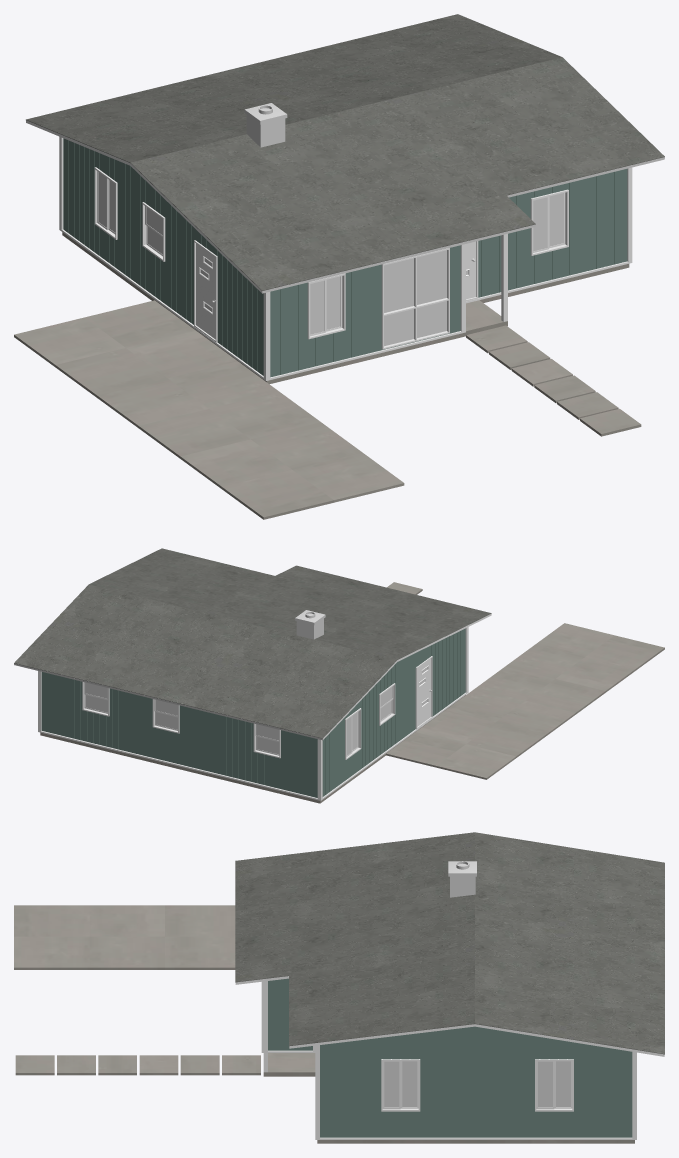
Rendered from casa1b.glb.
3 renders of one model, top to bottom at view 1: azimuth 30°, elevation 25°; view 2: azimuth 150°, elevation 25°; view 3: azimuth 270°, elevation 25°, orthographic. The views are drawn at different scales.
Parts seen in each view (by area): view 1: mf-371-roof_Asphalt020_0, mf-371-foundation_ConcreteSubstance004_0, mf-371-plywood_panels_plywood_teal_0, mf-371-walls_Wood058_0, mf-371-windowDouble.001_Glass_0, mf-371-doorFront_C.001_Accent_White_0, mf-371-chimney_Metal_White_0; view 2: mf-371-roof_Asphalt020_0, mf-371-plywood_panels_plywood_teal_0, mf-371-foundation_ConcreteSubstance004_0, mf-371-walls_Wood058_0, mf-371-windowDouble.001_Glass_0, mf-371-doorFront_C.001_Accent_White_0, mf-371-chimney_Metal_White_0; view 3: mf-371-roof_Asphalt020_0, mf-371-plywood_panels_plywood_teal_0, mf-371-foundation_ConcreteSubstance004_0, mf-371-walls_Wood058_0, mf-371-windowDouble.001_Glass_0, mf-371-chimney_Metal_White_0, mf-371-door-Interior.001_Metal_Aluminum_0.
Boxes of the visible parts, left/top/right/bottom form: mf-371-roof_Asphalt020_0: left=26, top=14, right=664, bottom=290; mf-371-foundation_ConcreteSubstance004_0: left=14, top=232, right=641, bottom=519; mf-371-plywood_panels_plywood_teal_0: left=63, top=138, right=627, bottom=377; mf-371-walls_Wood058_0: left=26, top=120, right=664, bottom=380; mf-371-windowDouble.001_Glass_0: left=98, top=172, right=563, bottom=346; mf-371-doorFront_C.001_Accent_White_0: left=196, top=241, right=476, bottom=339; mf-371-chimney_Metal_White_0: left=246, top=115, right=285, bottom=147; mf-371-roof_Asphalt020_0: left=14, top=548, right=491, bottom=738; mf-371-plywood_panels_plywood_teal_0: left=41, top=628, right=465, bottom=797; mf-371-foundation_ConcreteSubstance004_0: left=40, top=582, right=664, bottom=803; mf-371-walls_Wood058_0: left=14, top=613, right=491, bottom=800; mf-371-windowDouble.001_Glass_0: left=85, top=667, right=427, bottom=755; mf-371-doorFront_C.001_Accent_White_0: left=417, top=658, right=431, bottom=726; mf-371-chimney_Metal_White_0: left=296, top=619, right=323, bottom=639; mf-371-roof_Asphalt020_0: left=235, top=832, right=664, bottom=1054; mf-371-plywood_panels_plywood_teal_0: left=268, top=978, right=632, bottom=1137; mf-371-foundation_ConcreteSubstance004_0: left=14, top=905, right=634, bottom=1143; mf-371-walls_Wood058_0: left=235, top=976, right=664, bottom=1139; mf-371-windowDouble.001_Glass_0: left=384, top=1061, right=570, bottom=1107; mf-371-chimney_Metal_White_0: left=450, top=876, right=475, bottom=897; mf-371-door-Interior.001_Metal_Aluminum_0: left=448, top=861, right=476, bottom=876.
Size of the model in its own units: 13.95 by 4.1 by 15.67.
Materials: 9 (3 with a texture image).
